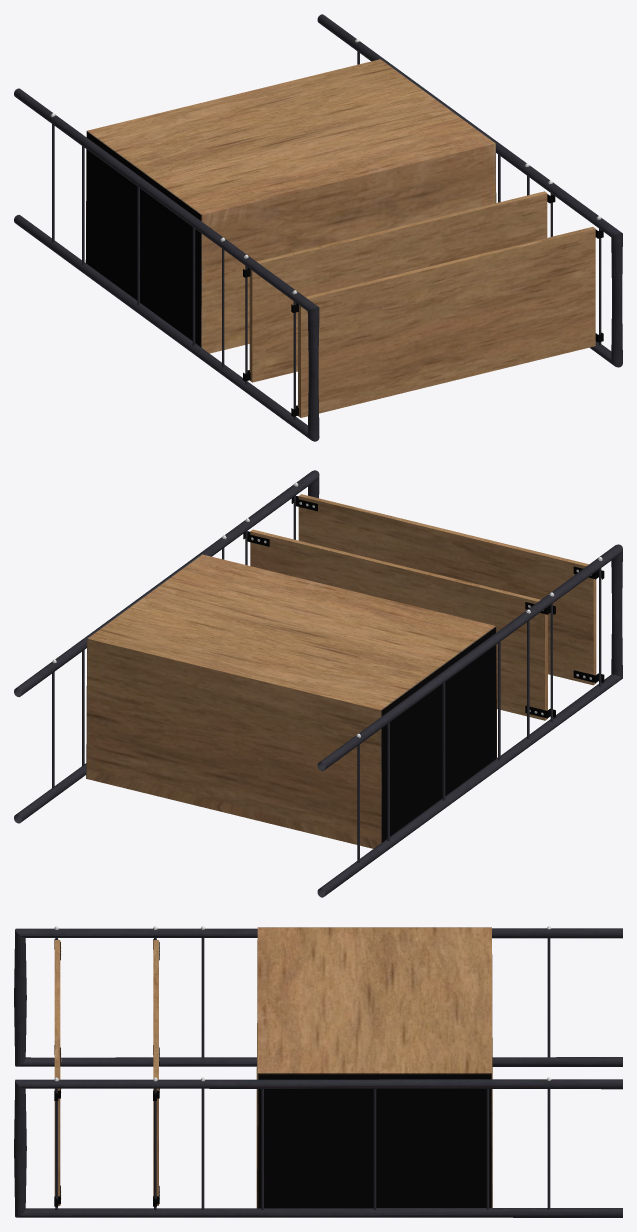
File: kitchen_cabinet.obj
3 renders of one model, top to bottom at view 1: azimuth 30°, elevation 25°; view 2: azimuth 150°, elevation 25°; view 3: azimuth 270°, elevation 25°, orthographic.
Bounding box in the file's own units: 1.12 × 0.48 × 1.85.
Materials: 1 (1 with a texture image).
